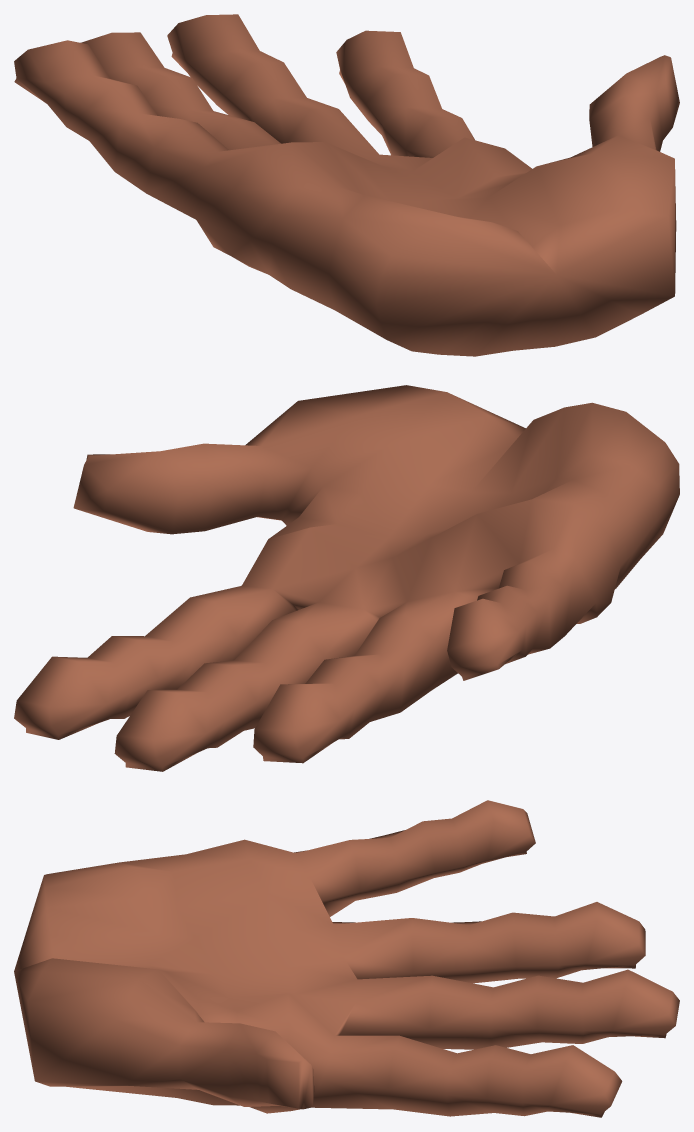
Rendered from hand_right.dae.
The picture shows the model from 3 angles, top to bottom: view 1: azimuth 30°, elevation 25°; view 2: azimuth 150°, elevation 25°; view 3: azimuth 270°, elevation 25°; orthographic projection. The views are drawn at different scales.
Visible parts, largest first — view 1: base_hand_o; view 2: base_hand_o; view 3: base_hand_o.
Part boxes in pixels (bbox=[...]): base_hand_o: bbox=[14, 14, 679, 356]; base_hand_o: bbox=[14, 385, 679, 771]; base_hand_o: bbox=[14, 800, 679, 1117].
Size of the model in its own units: 1.57 by 1.93 by 0.5785.
